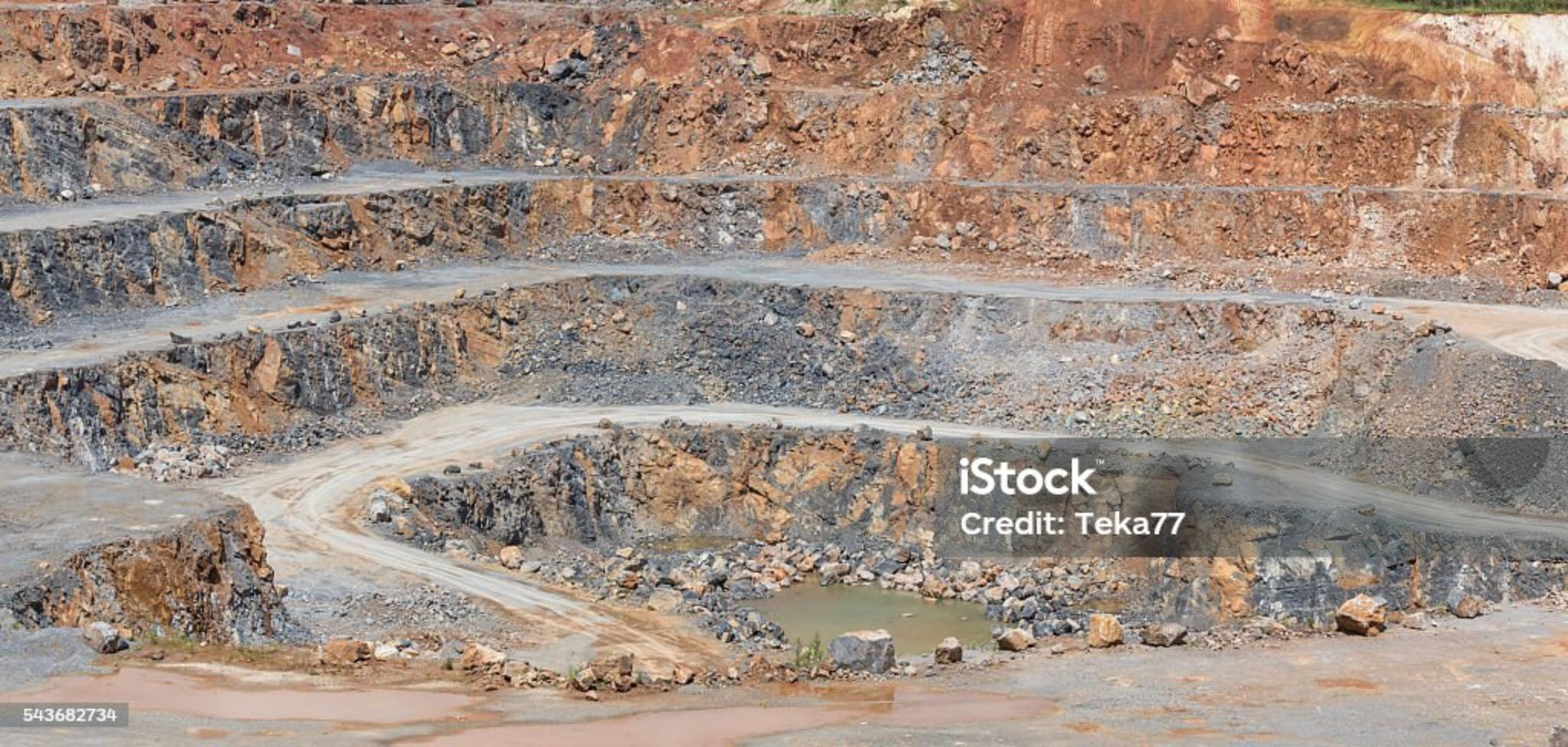benches: (0, 257, 1325, 377), (217, 403, 776, 660), (0, 167, 562, 234), (1185, 441, 1566, 539), (1361, 295, 1566, 363), (0, 453, 156, 524), (400, 409, 597, 459), (1426, 303, 1566, 360), (612, 404, 831, 421)
wall: (0, 277, 1566, 465), (0, 179, 1566, 328), (0, 75, 1566, 202)
